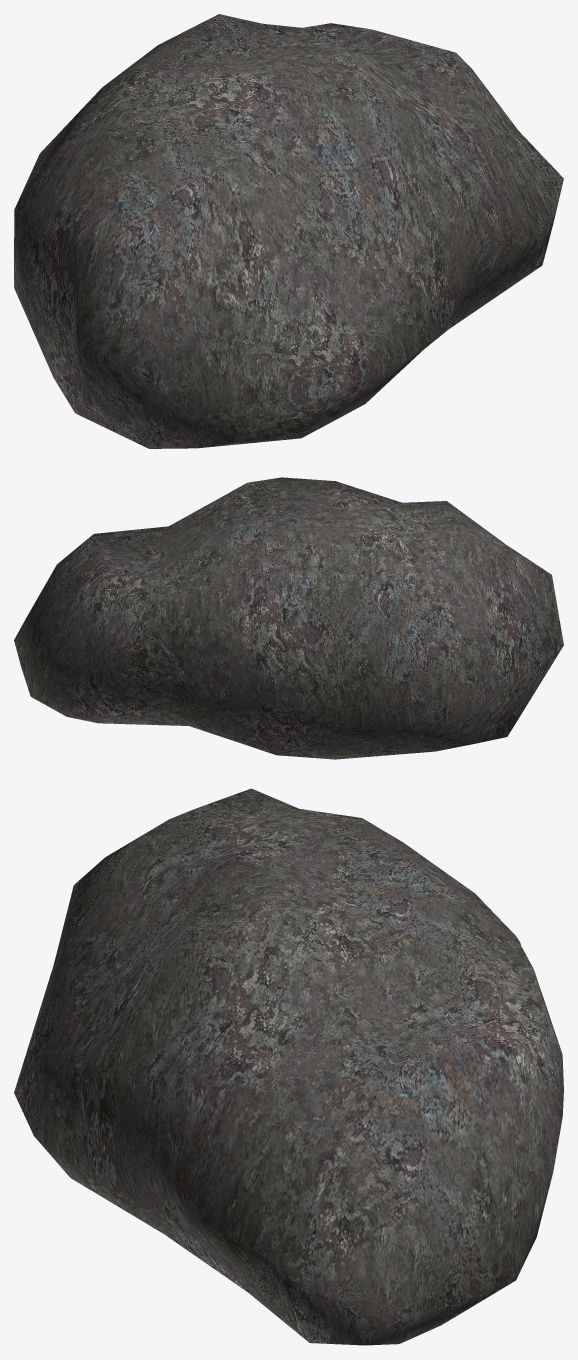
File: rock_volcanorockc_l0.fbx
3 views of the same model, one above another, from view 1: azimuth 30°, elevation 25°; view 2: azimuth 150°, elevation 25°; view 3: azimuth 270°, elevation 25° (orthographic). The views are drawn at different scales.
Parts seen in each view (by area): view 1: mesh_node; view 2: mesh_node; view 3: mesh_node.
Boxes of the visible parts, x1,y1,x2,y2 form: mesh_node: (14,14,563,448); mesh_node: (14,477,563,759); mesh_node: (14,788,563,1345).
Size of the model in its own units: 14.42 by 7.16 by 10.46.
Materials: 1 (1 with a texture image).
